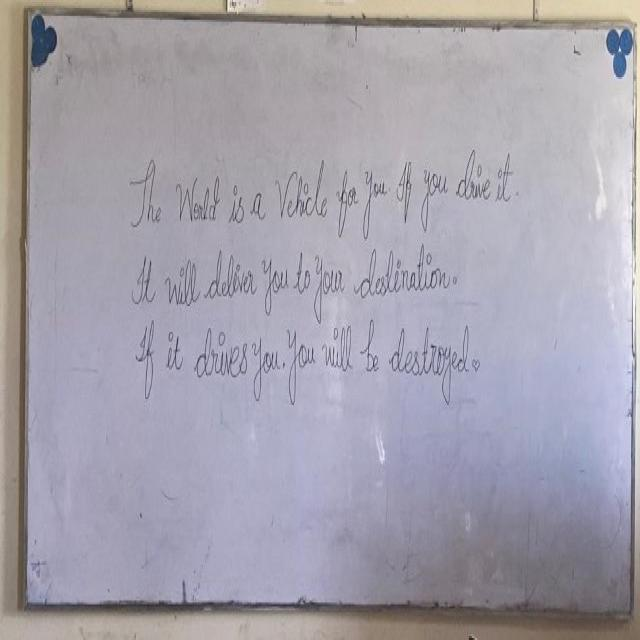White-board: (22, 9, 637, 613)
